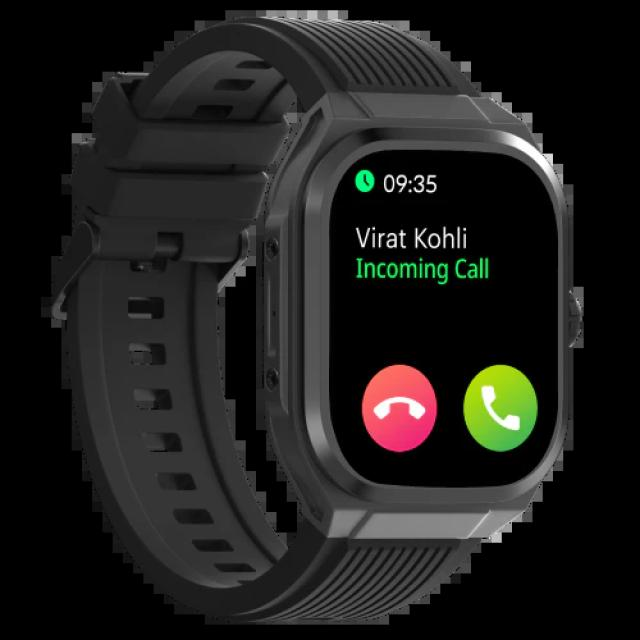objects: (52, 18, 580, 620)
